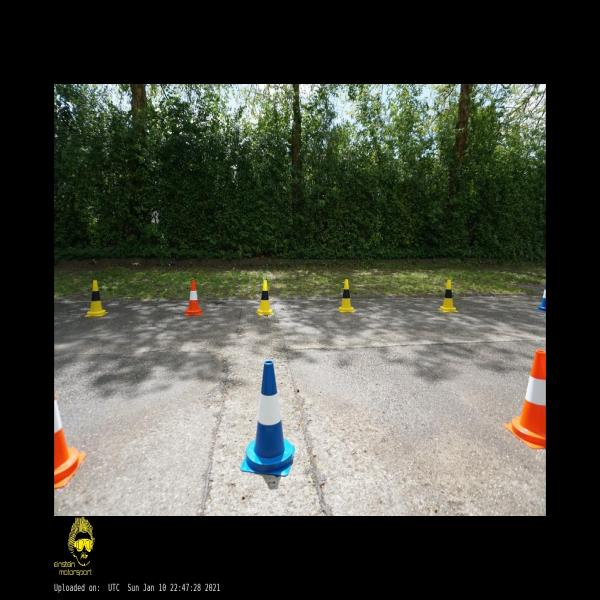blue_cone: (240, 360, 295, 476), (536, 286, 545, 312)
orange_cone: (503, 350, 546, 448), (54, 392, 86, 488), (184, 280, 202, 316)
yellow_cone: (84, 280, 108, 317), (438, 280, 458, 312), (256, 280, 274, 315), (338, 280, 354, 312)
